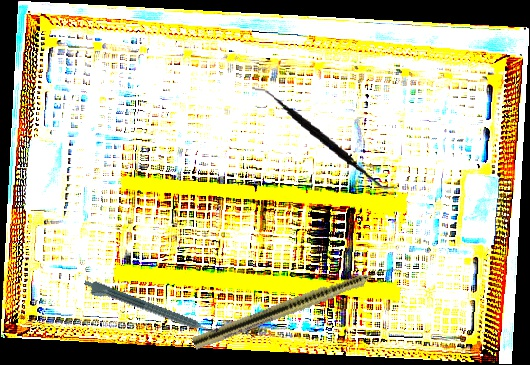Handpiece: (191, 258, 403, 353), (80, 277, 218, 343)
Spatula Surgical: (242, 85, 407, 191)
